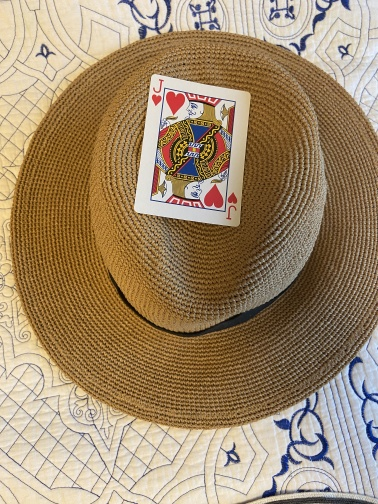jack: (132, 74, 252, 229)
